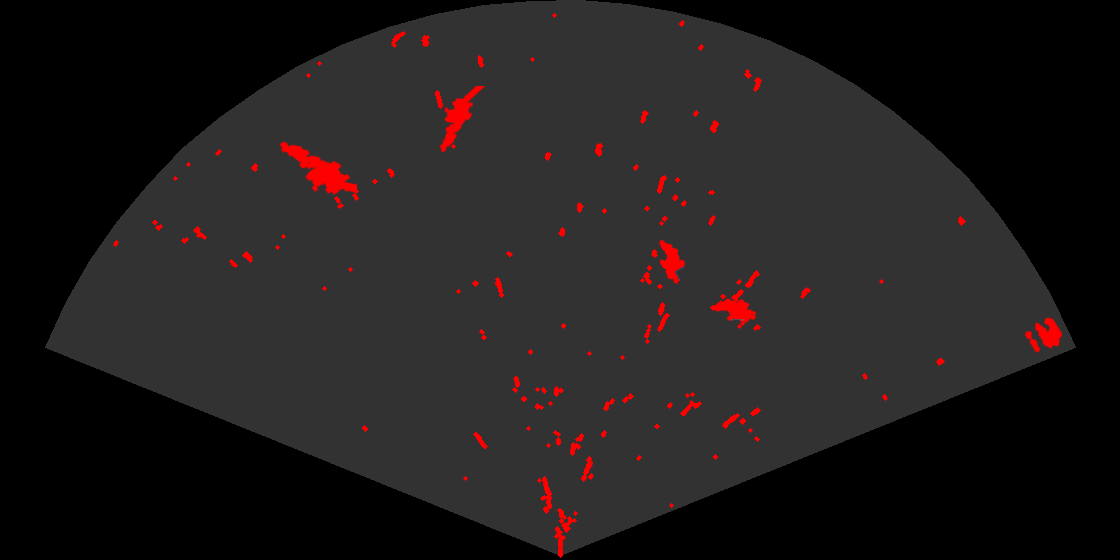AUV: (658, 238, 687, 285), (708, 297, 758, 324)
ball: (1023, 316, 1064, 354)
frogman: (278, 140, 357, 196), (438, 86, 487, 154)
